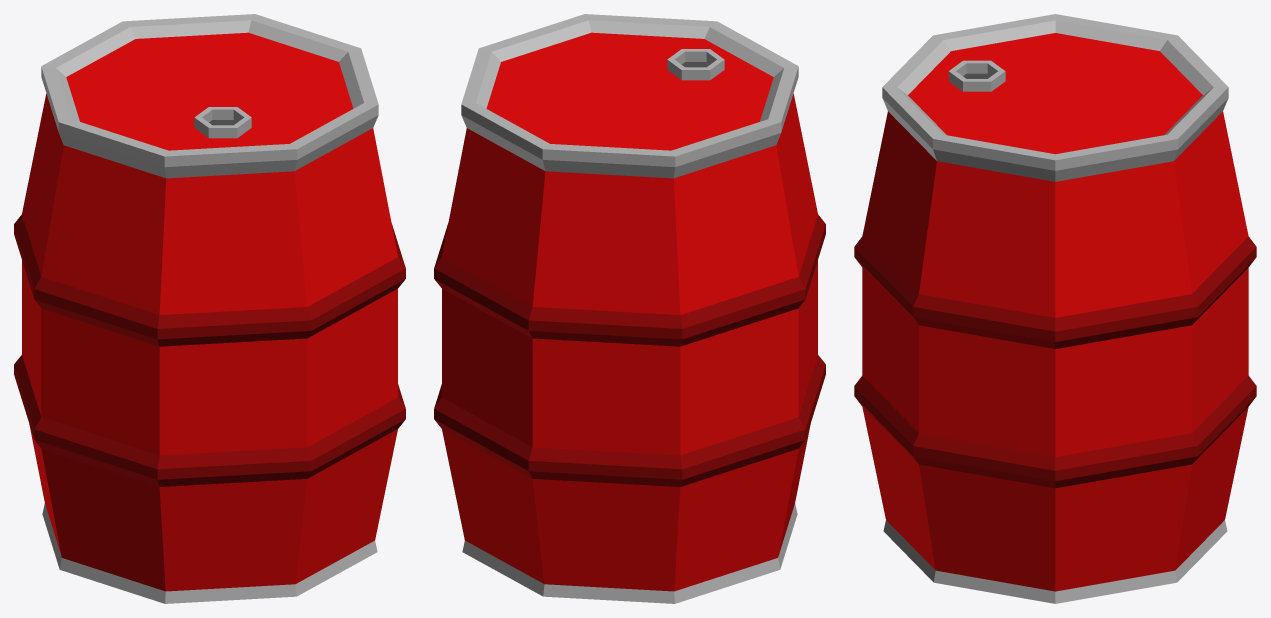
Rendered from Barrel Plastic Red.fbx.
3 renders of one model, left to right at view 1: azimuth 30°, elevation 25°; view 2: azimuth 150°, elevation 25°; view 3: azimuth 270°, elevation 25°, orthographic.
Visible parts, largest first — view 1: Barrel Plastic Red; view 2: Barrel Plastic Red; view 3: Barrel Plastic Red.
Boxes of the visible parts, x1,y1,x2,y2 form: Barrel Plastic Red: [14, 14, 405, 603]; Barrel Plastic Red: [434, 14, 825, 603]; Barrel Plastic Red: [854, 14, 1256, 603].
Bounding box in the file's own units: 94.52 × 116 × 94.52.
